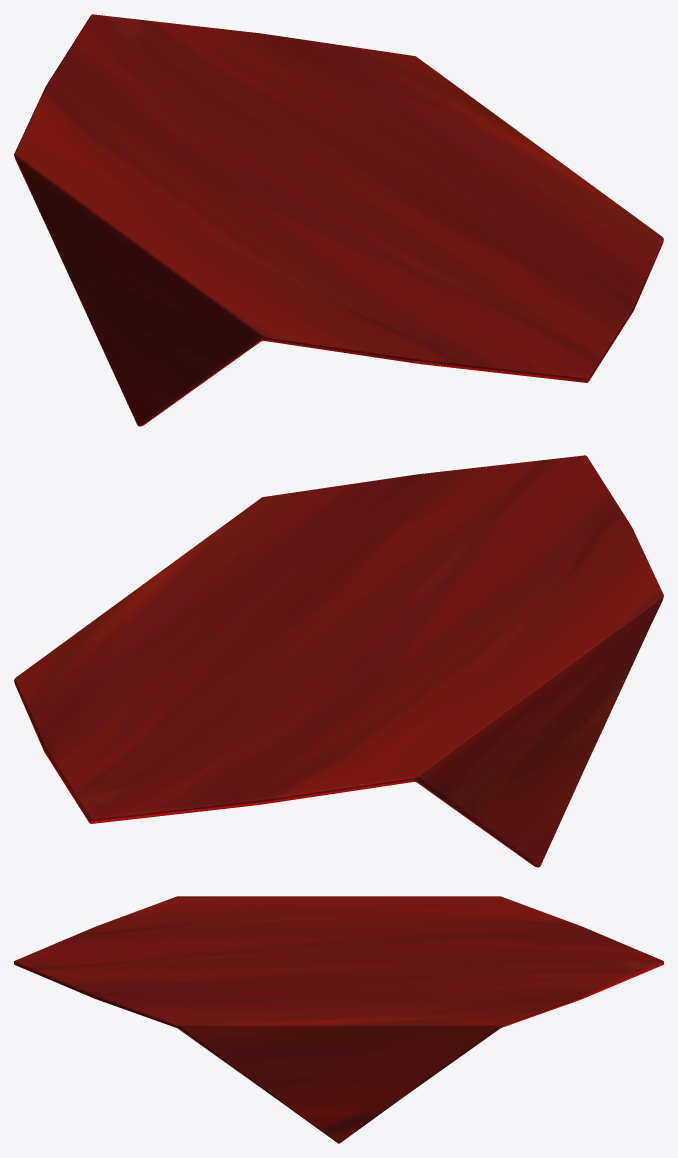
File: Cloth.glb
The picture shows the model from 3 angles, top to bottom: view 1: azimuth 30°, elevation 25°; view 2: azimuth 150°, elevation 25°; view 3: azimuth 270°, elevation 25°; orthographic projection. The views are drawn at different scales.
Parts seen in each view (by area): view 1: Cloth; view 2: Cloth; view 3: Cloth.
Boxes of the visible parts, bbox=[...] form: Cloth: bbox=[14, 14, 663, 426]; Cloth: bbox=[14, 455, 663, 867]; Cloth: bbox=[14, 896, 663, 1143].
Size of the model in its own units: 29.68 by 12.81 by 63.33.
1 material, 1 textured.
